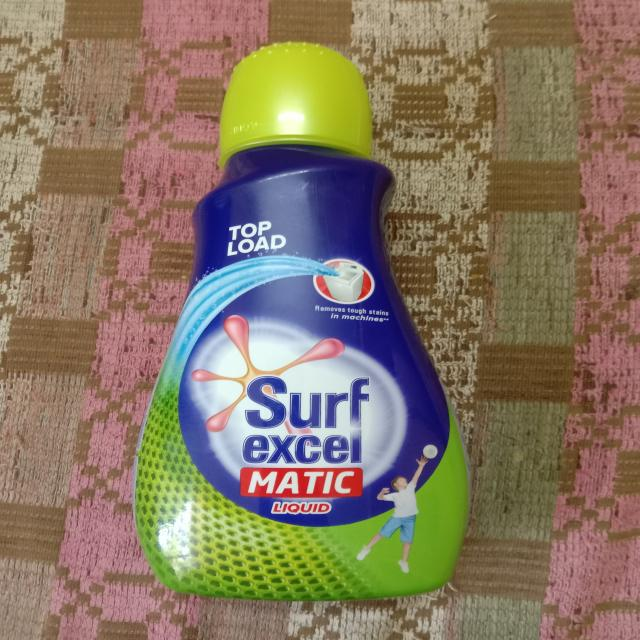detergent: (131, 39, 468, 606)
